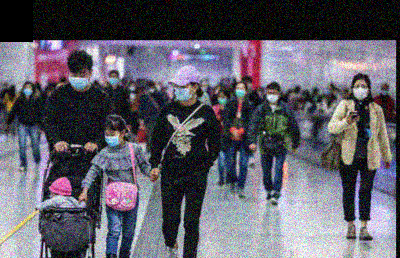with_mask: (68, 71, 90, 91), (173, 85, 192, 103), (103, 131, 121, 148), (353, 83, 370, 100), (265, 90, 280, 104), (233, 86, 247, 98), (217, 94, 228, 106), (22, 85, 33, 95), (108, 74, 118, 85), (128, 83, 136, 92), (148, 85, 156, 93), (382, 89, 389, 96)
